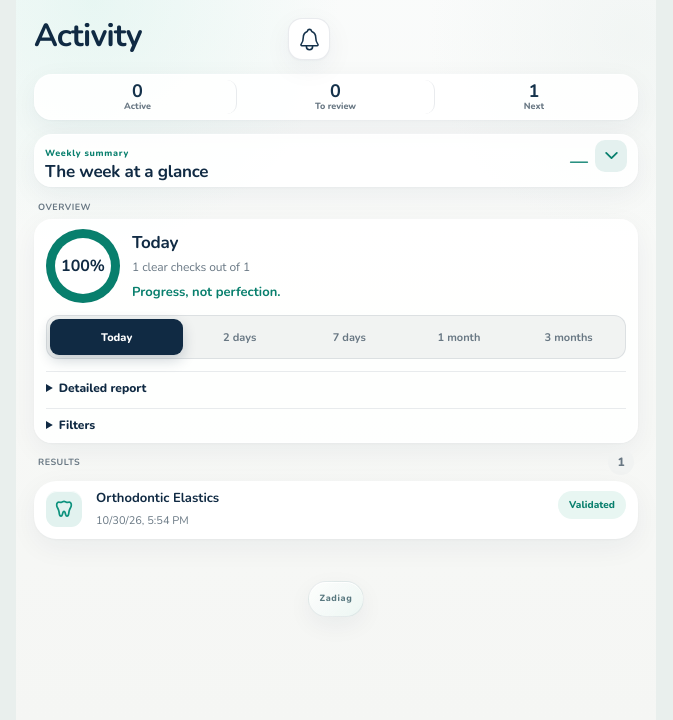
ParentDashboard › keeps the weekly summary available before a profile has enough completed checks
Check: the element with class "weekly-insight-card" is shown, box [34,134,638,187]
Check: the element with class "weekly-insight-rate" reads "—", box [570,148,588,172]
Click the button with class "card-disclosure-toggle" at (611, 156), box [595,140,627,172]
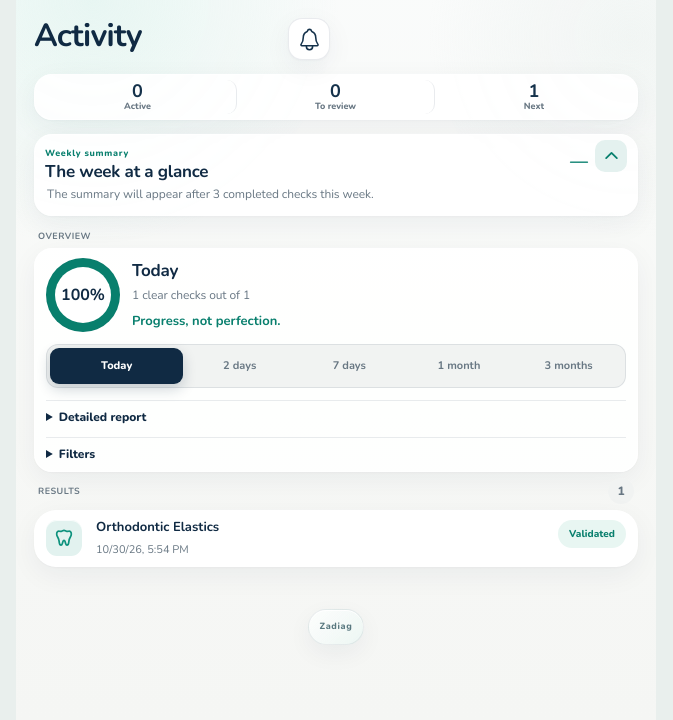
Check: the button with class "card-disclosure-toggle" is expanded, box [595,140,627,172]
Check: the element with class "weekly-insight-card" shows "The summary will appear after 3 completed checks this week.", box [47,186,374,202]
